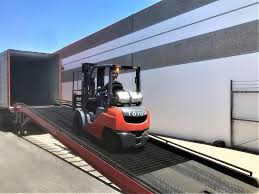Pallet Jack: (58, 61, 152, 153)
Yard Ramp: (11, 101, 258, 192)
